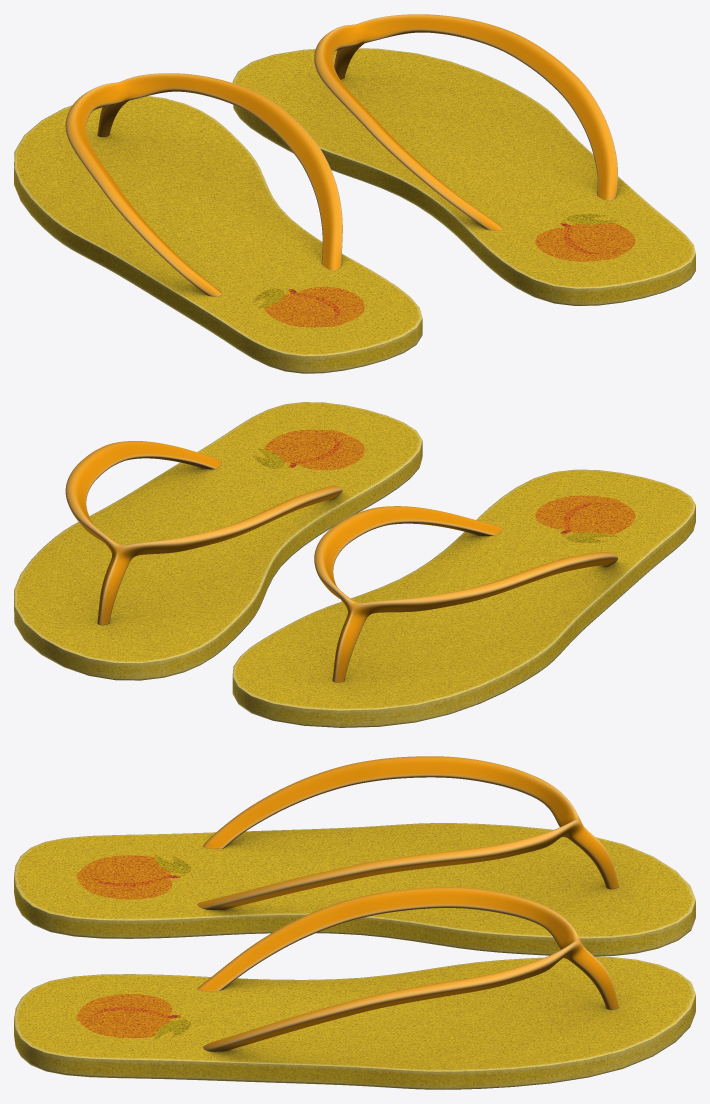
The model's file is chinelo amarelo.glb.
3 views of the same model, one above another, from view 1: azimuth 30°, elevation 25°; view 2: azimuth 150°, elevation 25°; view 3: azimuth 270°, elevation 25° (orthographic). The views are drawn at different scales.
Visible parts, largest first — view 1: Cube.001_Cube_0; view 2: Cube.001_Cube_0; view 3: Cube.001_Cube_0.
Part boxes in pixels (box(x1,y1,x2,y2)): Cube.001_Cube_0: box(14, 14, 695, 373); Cube.001_Cube_0: box(14, 402, 695, 727); Cube.001_Cube_0: box(14, 756, 695, 1089).
Bounding box in the file's own units: 5.81 × 1.09 × 6.74.
Materials: 1 (1 with a texture image).
